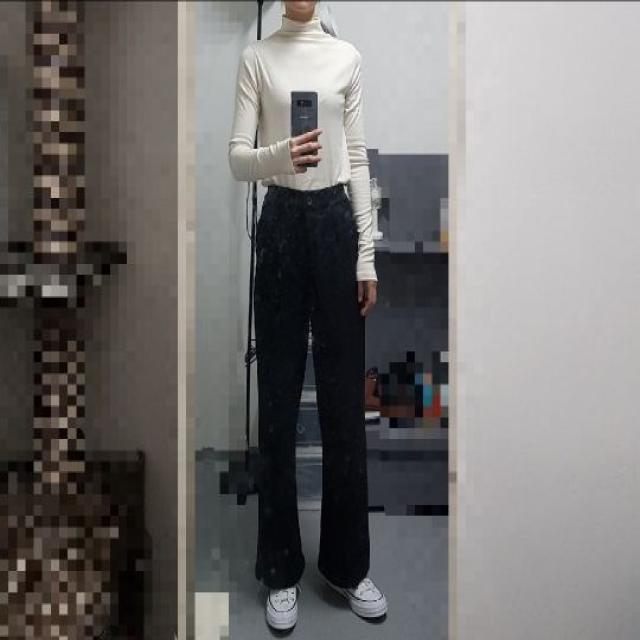longsleeve: (229, 16, 377, 283)
slacks: (253, 186, 371, 592)
